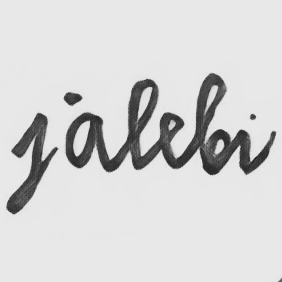a: (62, 110, 112, 172)
b: (192, 71, 234, 177)
e: (155, 111, 189, 172)
i: (236, 112, 262, 176)
j: (2, 110, 55, 217)
l: (122, 77, 163, 173)
